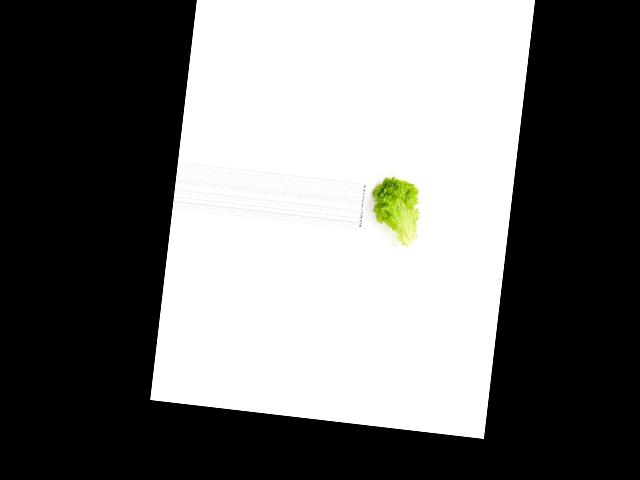lettuce: (366, 172, 426, 247)
